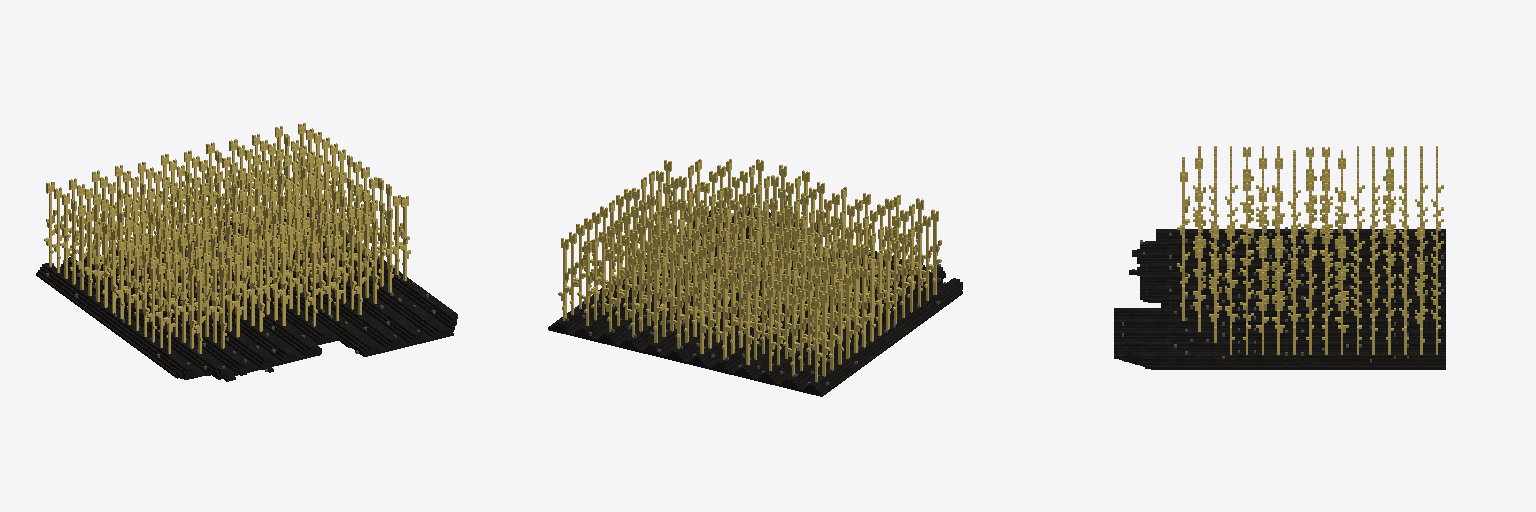
3 renders of one model, left to right at view 1: azimuth 30°, elevation 25°; view 2: azimuth 150°, elevation 25°; view 3: azimuth 270°, elevation 25°, orthographic.
Visible parts, largest first — view 1: object 1; view 2: object 1; view 3: object 1.
Part boxes in pixels (left/top/right/bottom): object 1: left=36, top=123, right=457, bottom=381; object 1: left=548, top=159, right=962, bottom=396; object 1: left=1114, top=146, right=1445, bottom=369.
Bounding box in the file's own units: 12 × 3.9 × 12.6.
Materials: 1 (1 with a texture image).